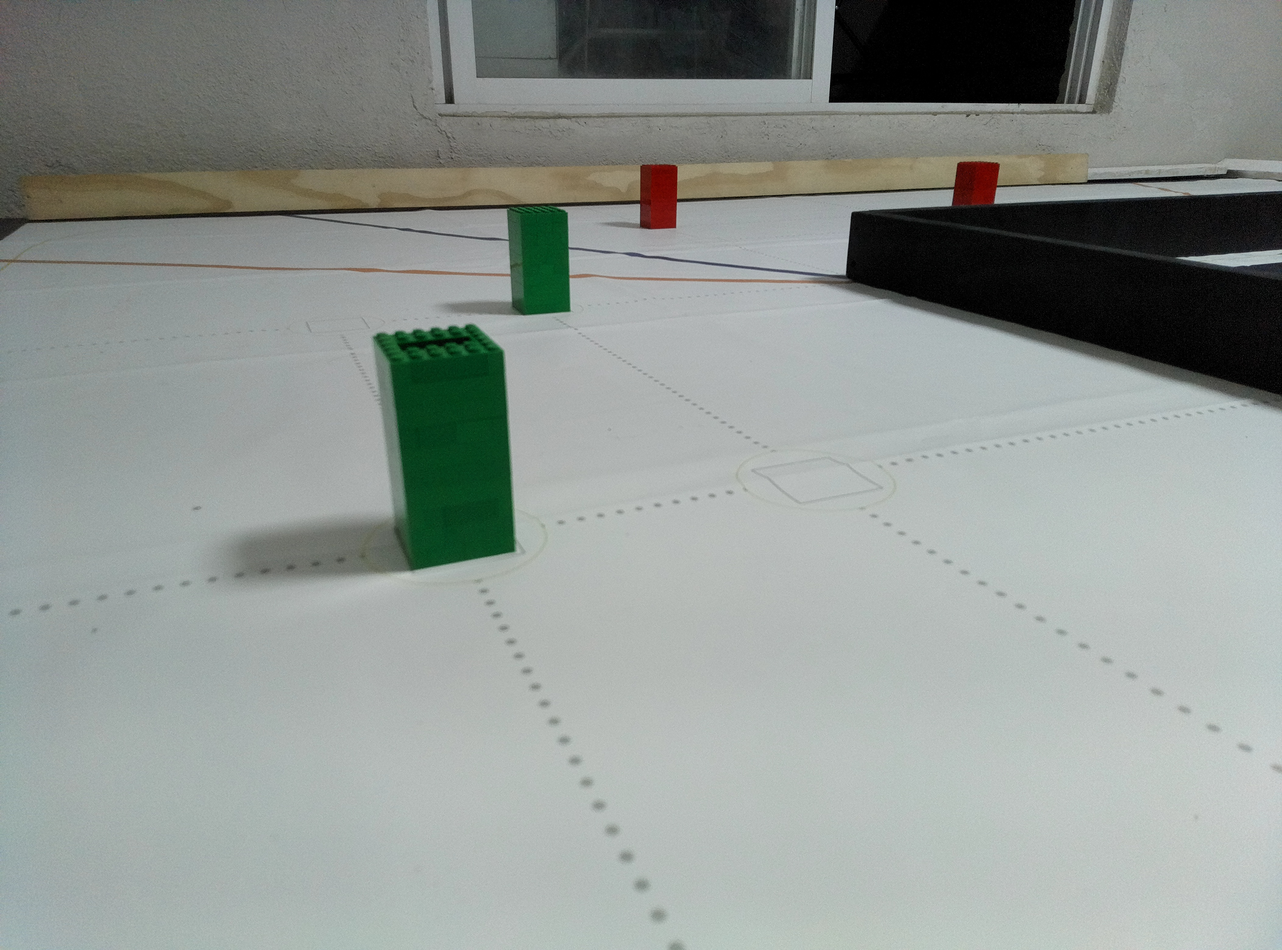greenbox: (372, 323, 517, 573), (507, 205, 570, 315)
redbox: (639, 164, 678, 229), (952, 161, 1000, 206)
